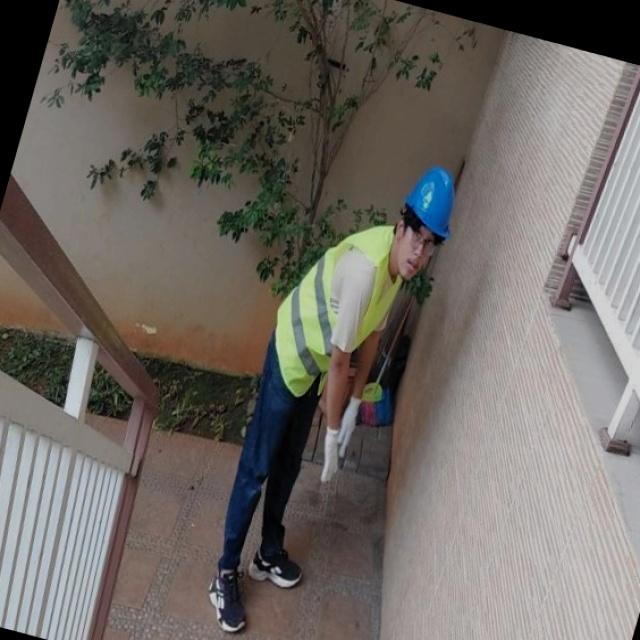helmet: (400, 162, 460, 238)
safety_vest: (238, 224, 410, 396)
